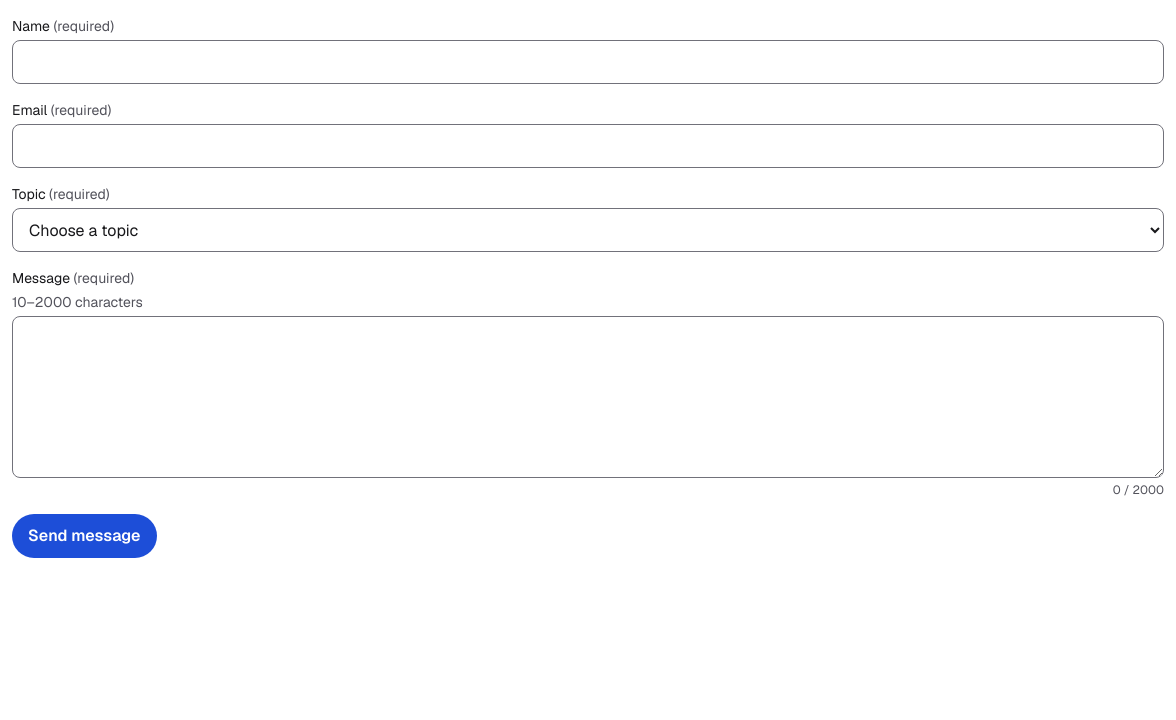
T66 ContactForm: submit flows › success: reference in polite live region, fields cleared, honeypot posted empty
Type "Ada" into the field labelled "Name (required)".
click(588, 62); type("Ada")  # box [12,40,1164,84]
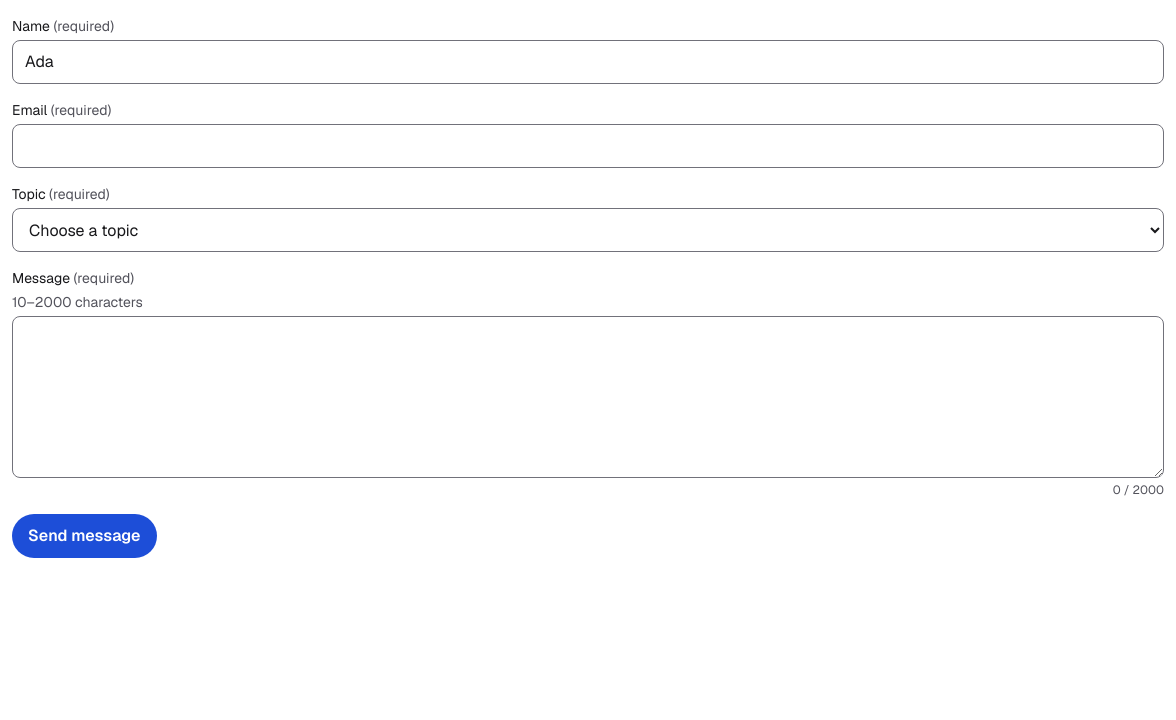
Type "ada@example.com" into the field labelled "Email (required)".
click(588, 146); type("ada@example.com")  # box [12,124,1164,168]
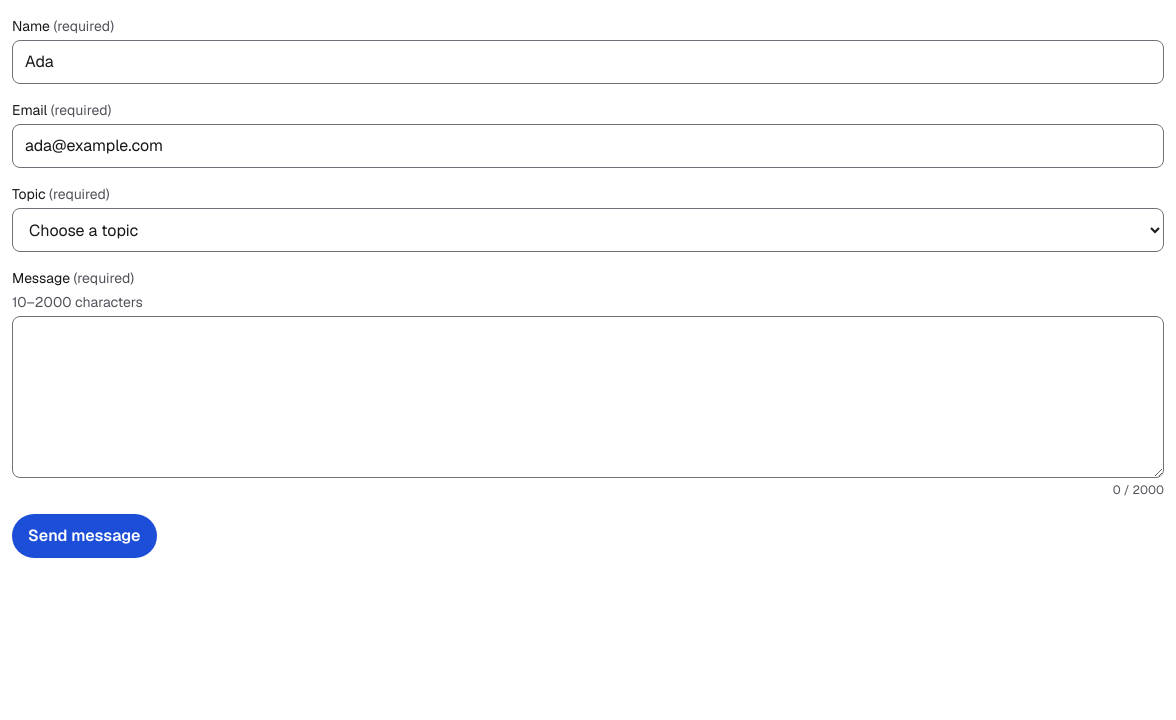
Select "Shipping and delivery" in the dropdown labelled "Topic (required)" at x=588, y=230, box [12,208,1164,252]
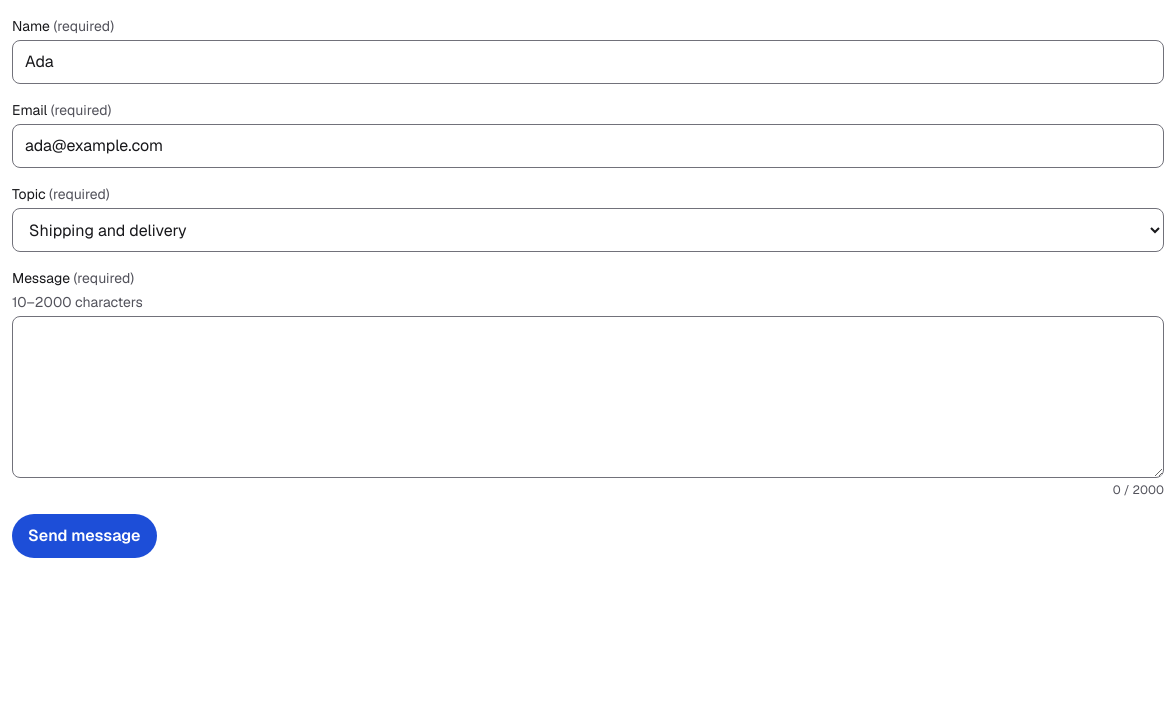
Type "Where is my parcel please?" into the text box labelled "Message (required)".
click(588, 397); type("Where is my parcel please?")  # box [12,316,1164,478]
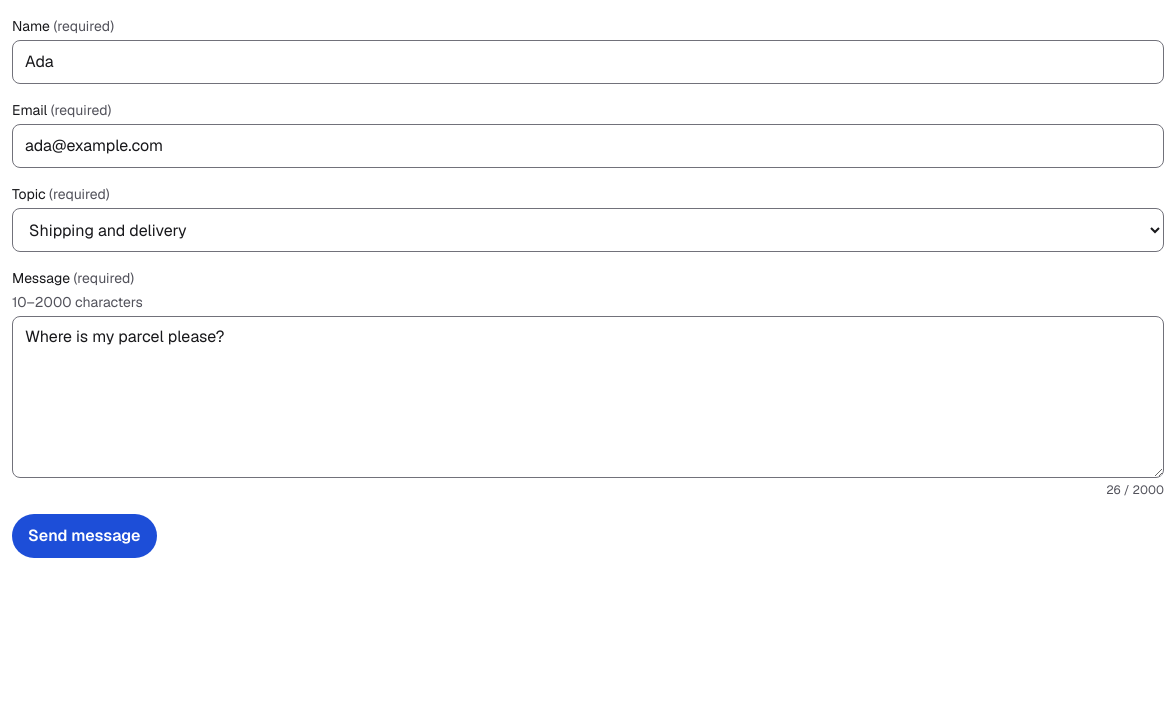
Submit the form named "Contact us"
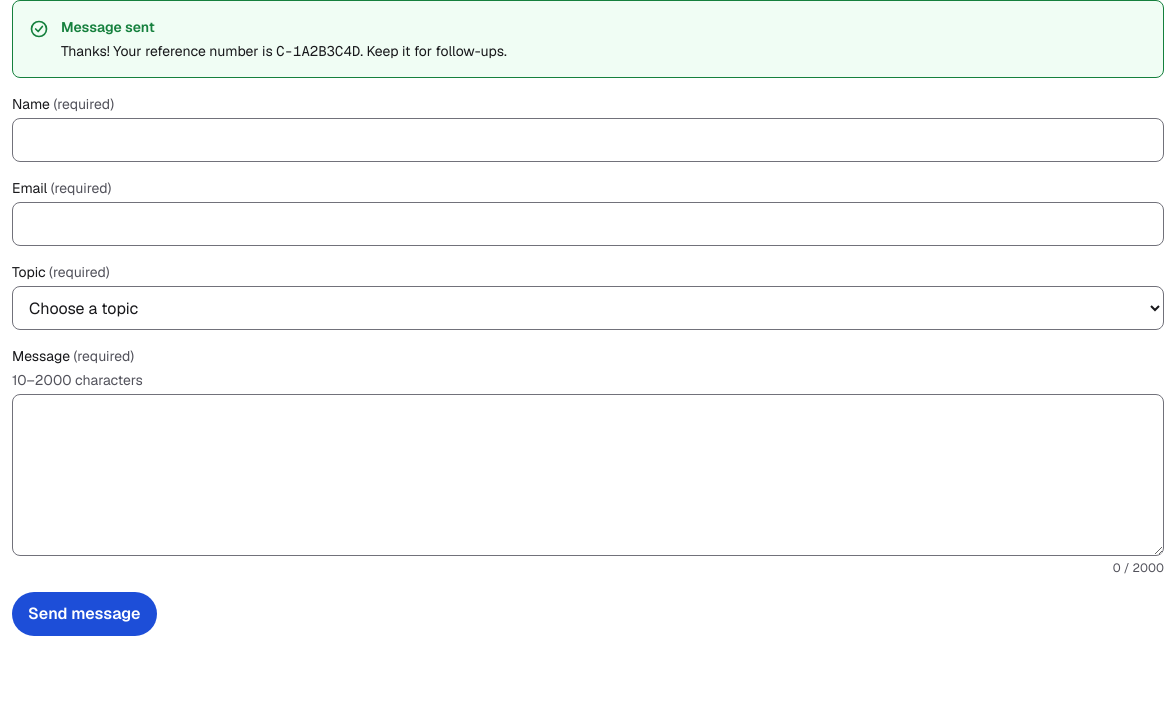
Expected: the text "C-1A2B3C4D" is shown, [276,42,360,60]
Expected: the field labelled "Name (required)" is empty, [12,118,1164,162]
Expected: the text box labelled "Message (required)" is empty, [12,394,1164,556]
